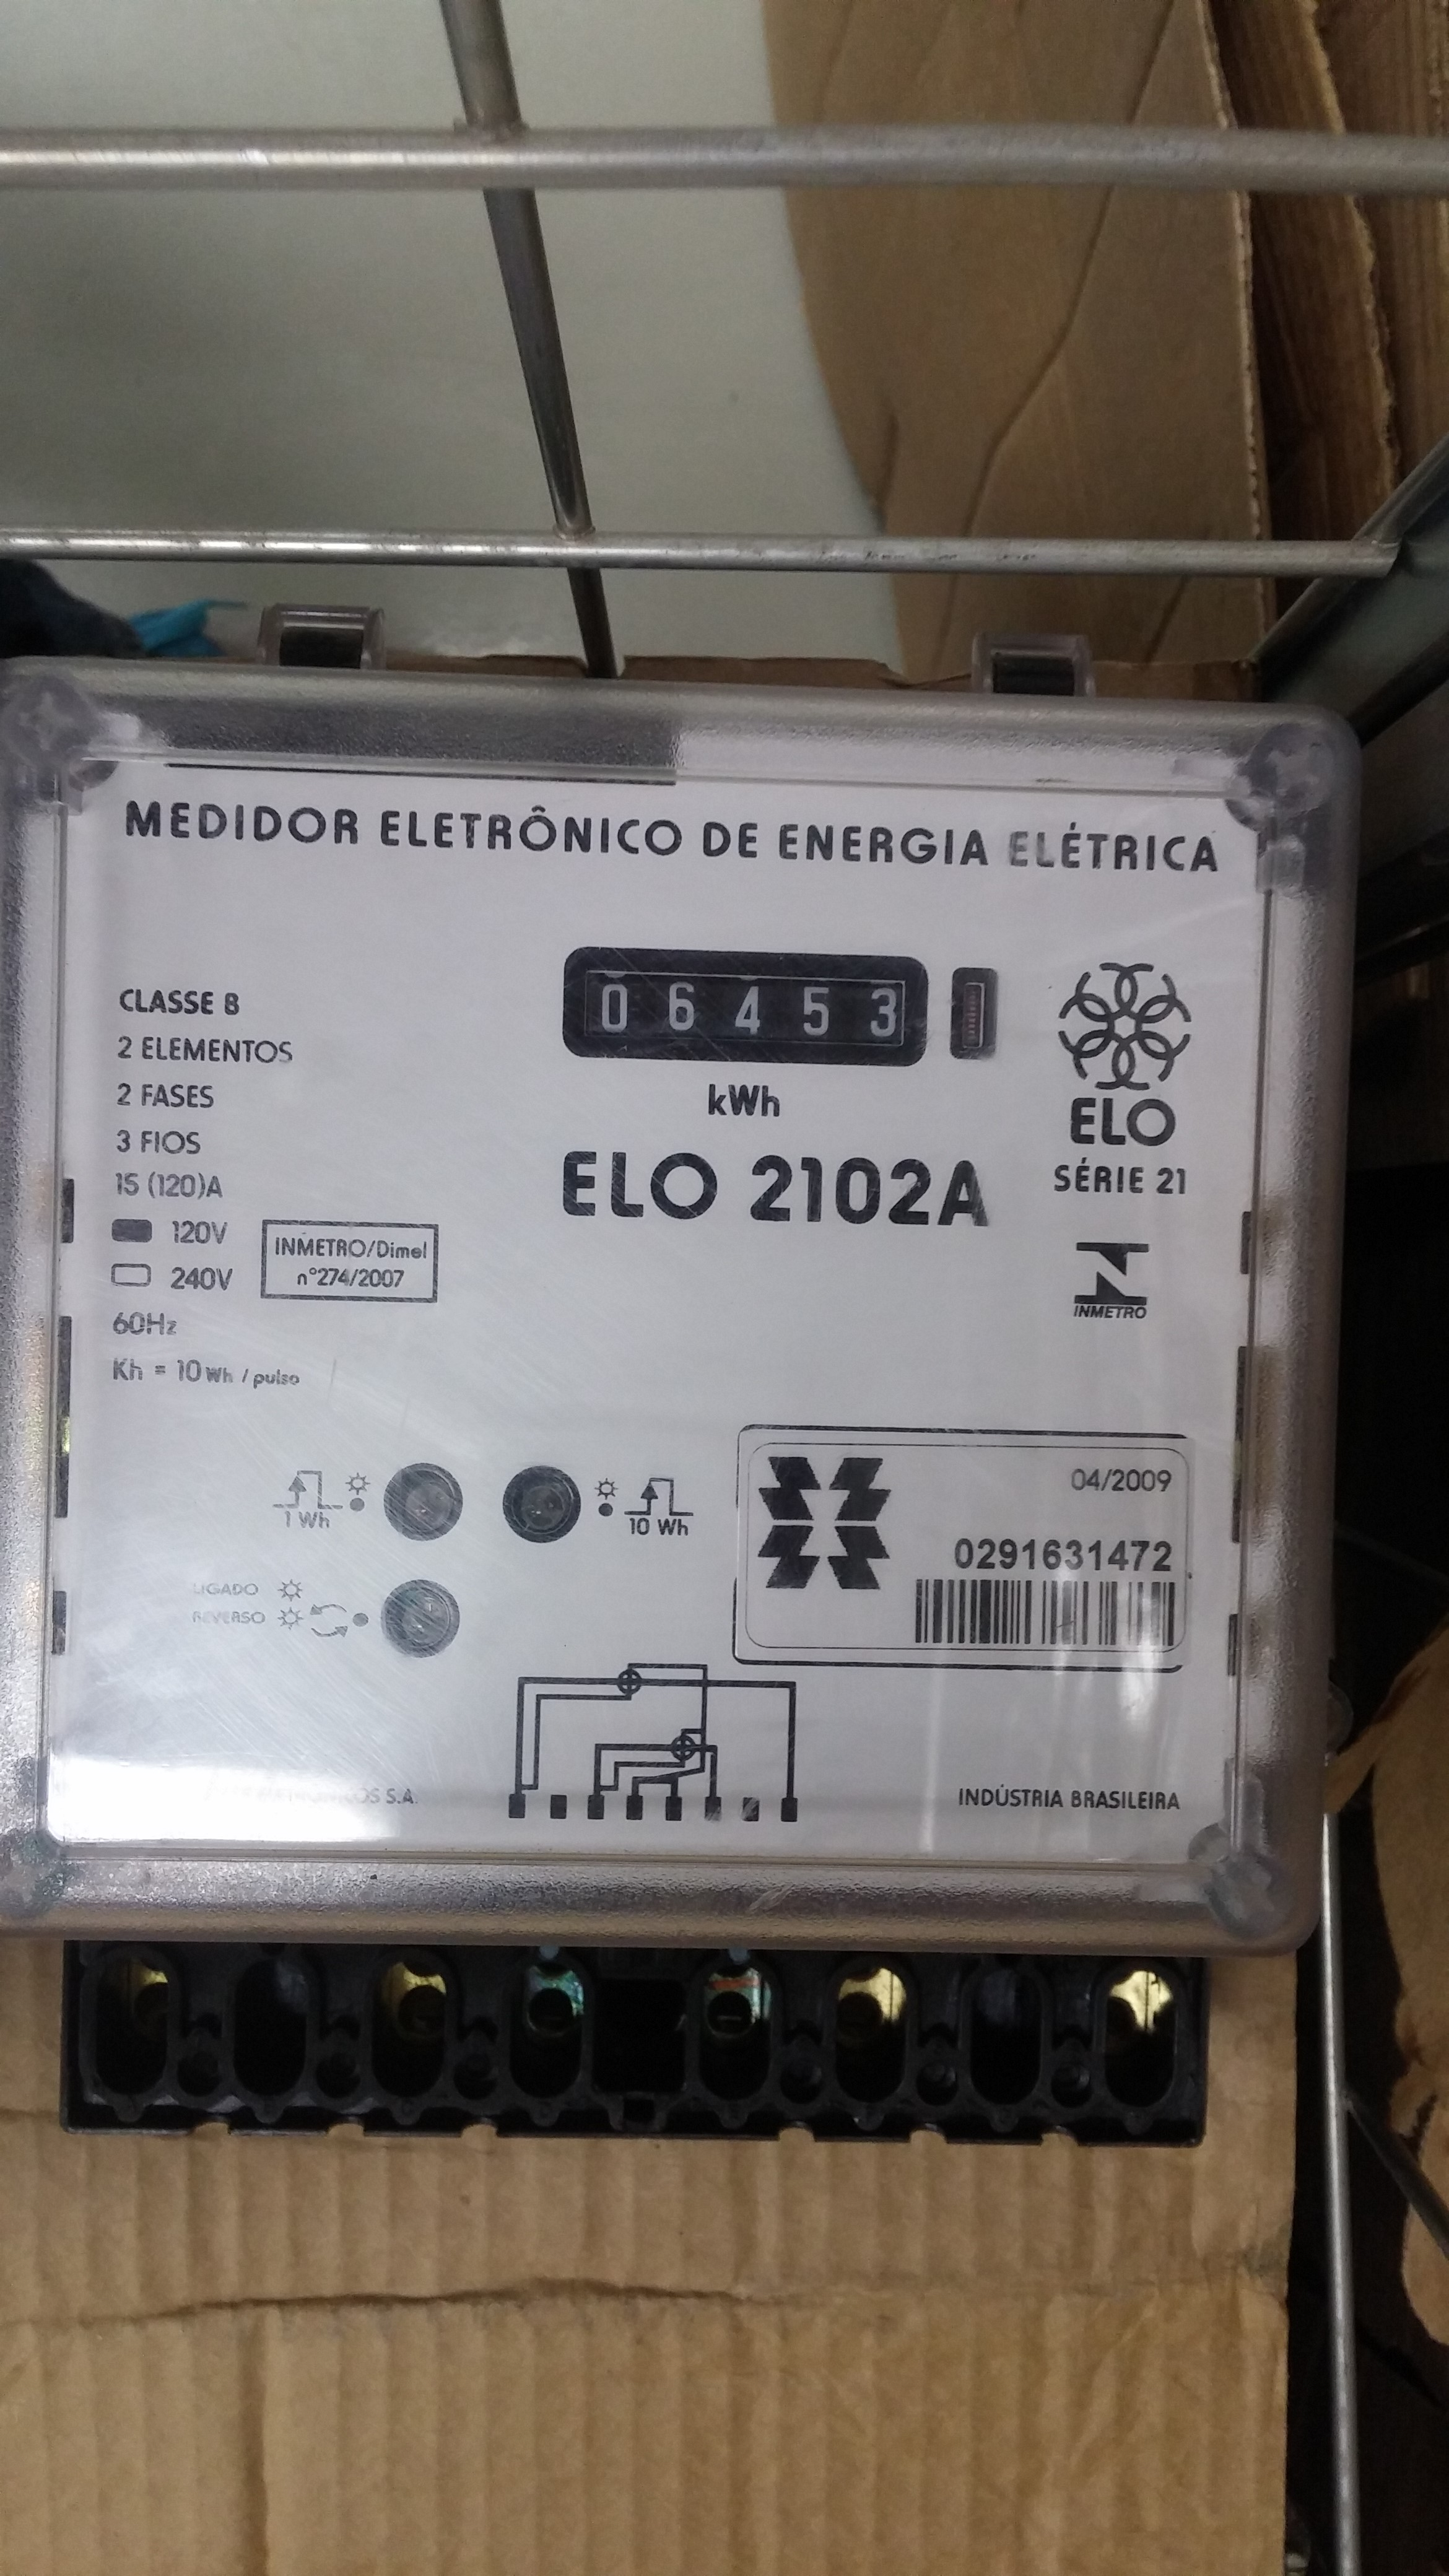counter2: (557, 938, 938, 1062)
